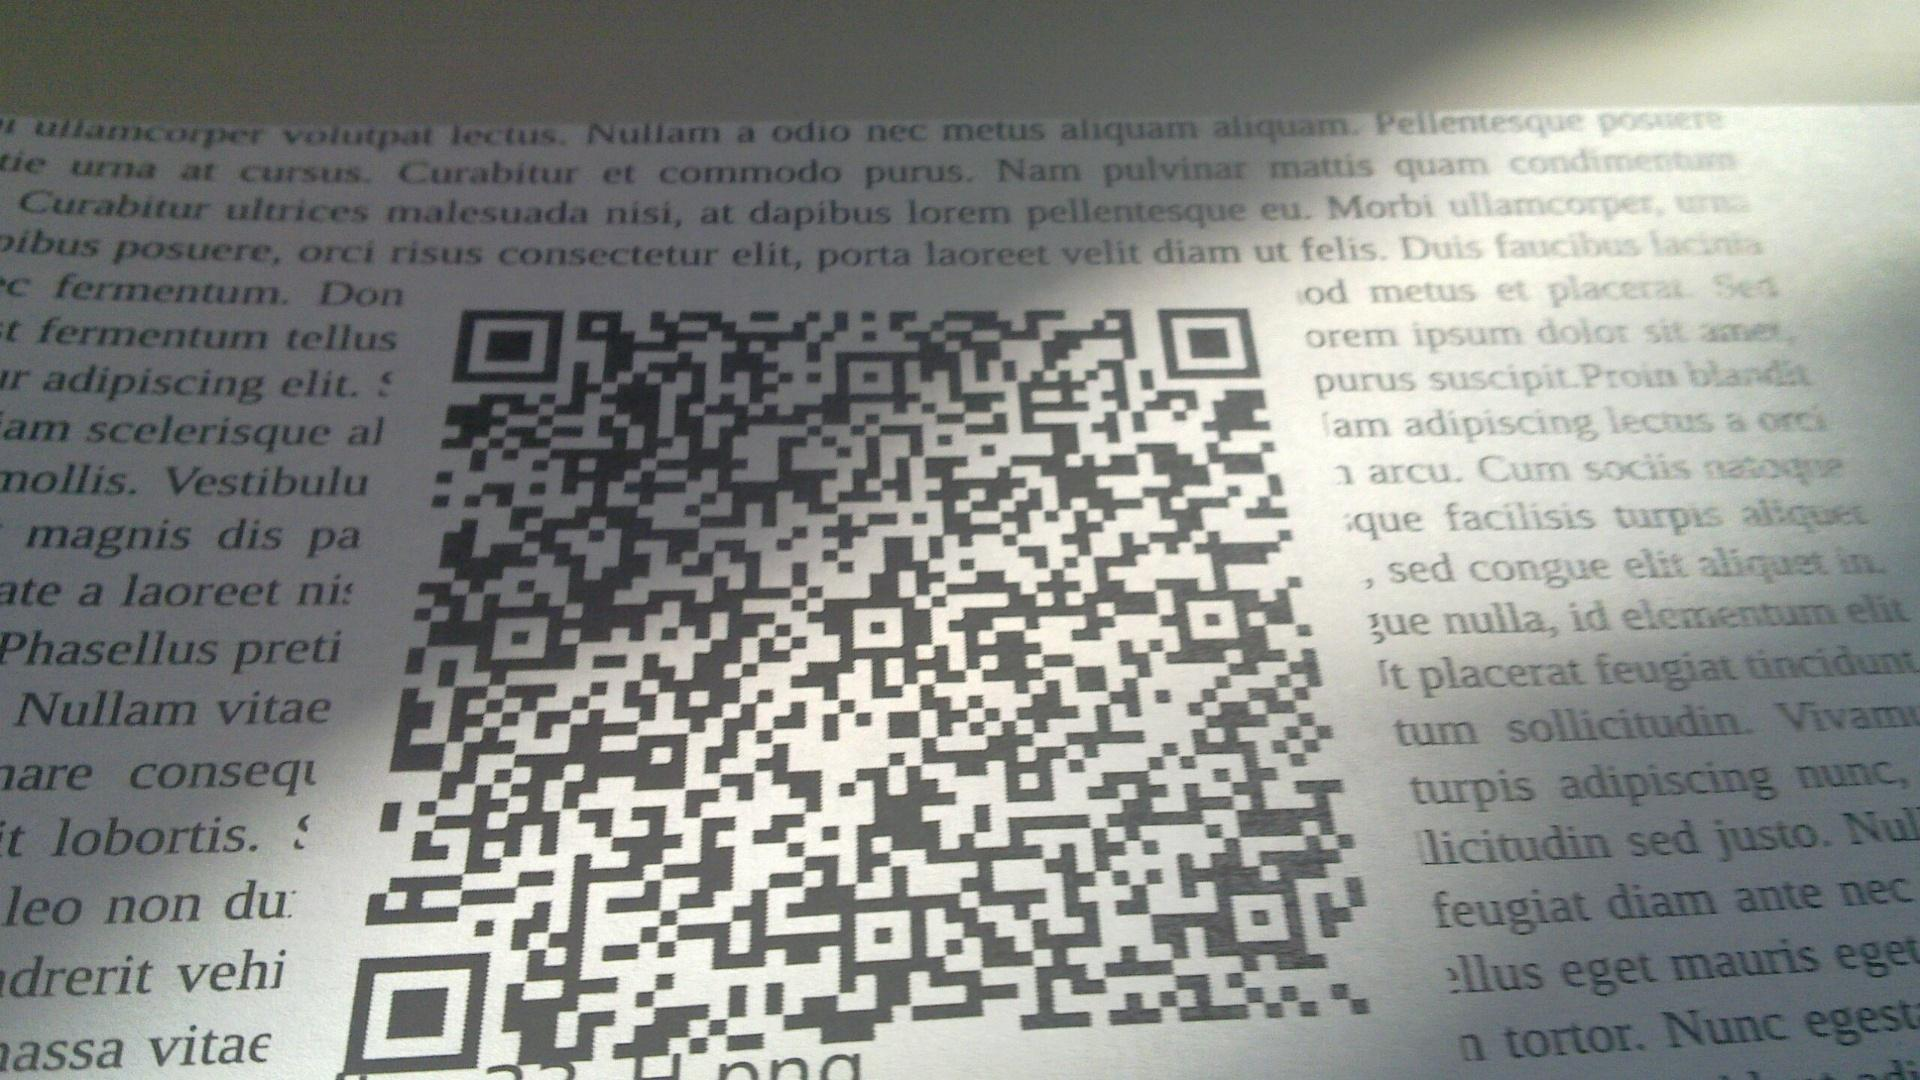Finder pattern: (334, 952, 493, 1073), (454, 301, 567, 385), (1153, 301, 1265, 382)
